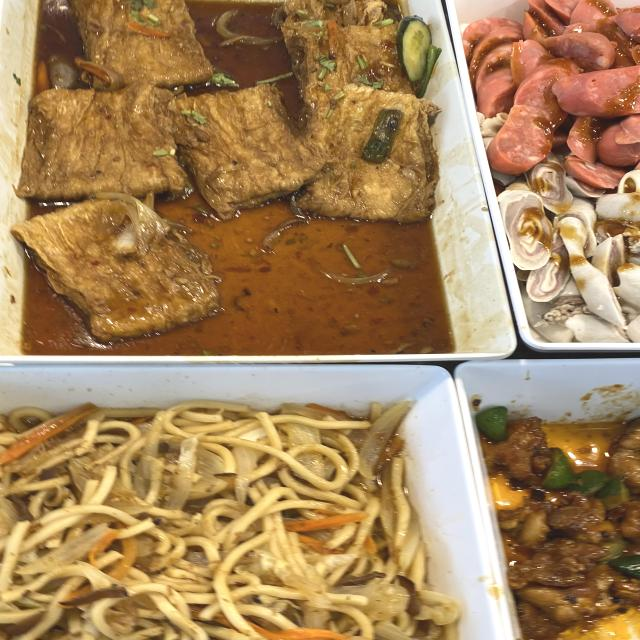bean bag: (45, 42, 401, 302)
